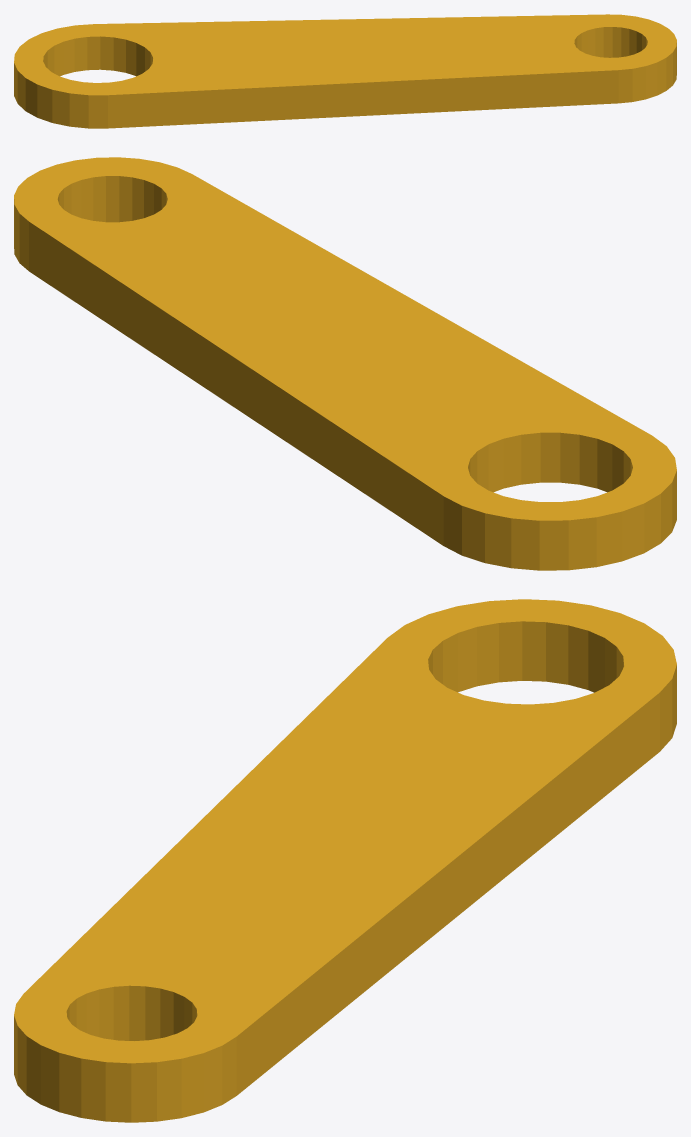
The model's file is TDJ-25-P-50005-ARM-B.glb.
3 views of the same model, one above another, from view 1: azimuth 30°, elevation 25°; view 2: azimuth 150°, elevation 25°; view 3: azimuth 270°, elevation 25° (orthographic). The views are drawn at different scales.
Size of the model in its own units: 53.16 by 3.17 by 32.09.
